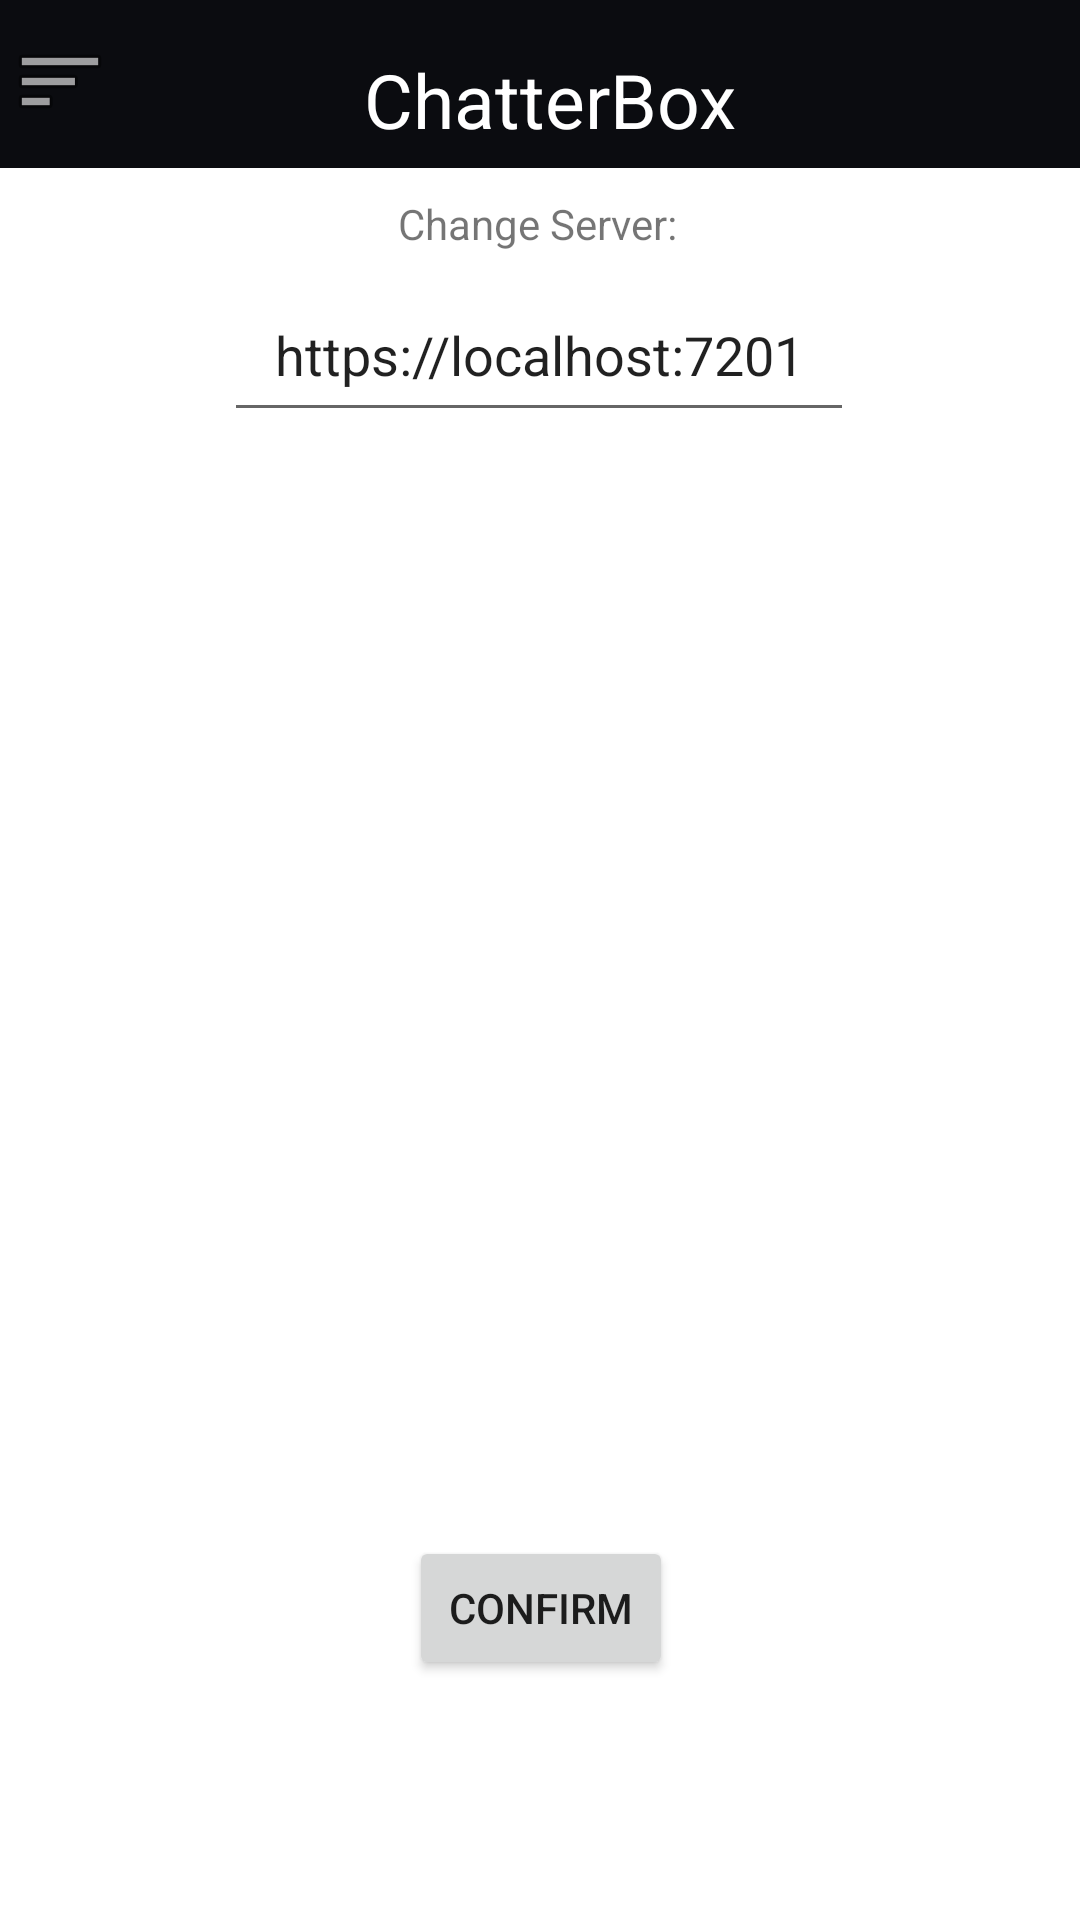

Named icons in this screenshot (1080 x 1920) and their bounding boxes, (x1, y1, x2, y2):
sort by size: (22, 58, 98, 105)
